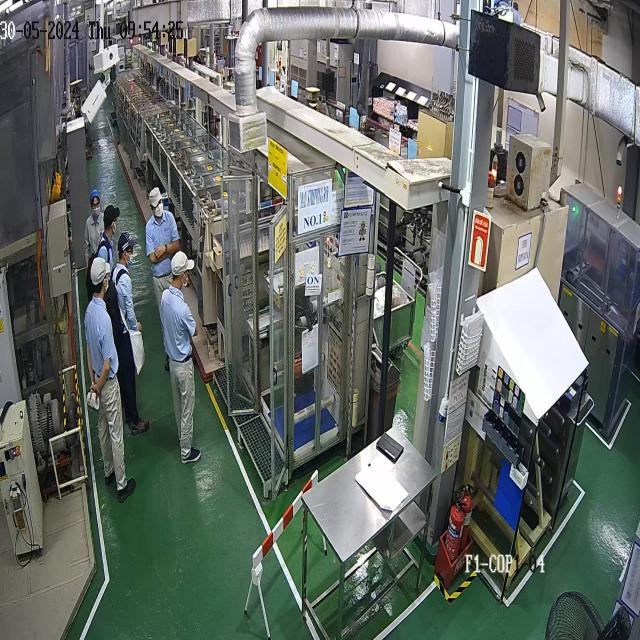Person: (84, 255, 136, 503), (160, 250, 201, 463), (110, 231, 150, 436), (145, 186, 180, 372), (83, 188, 105, 304), (96, 204, 120, 275)
